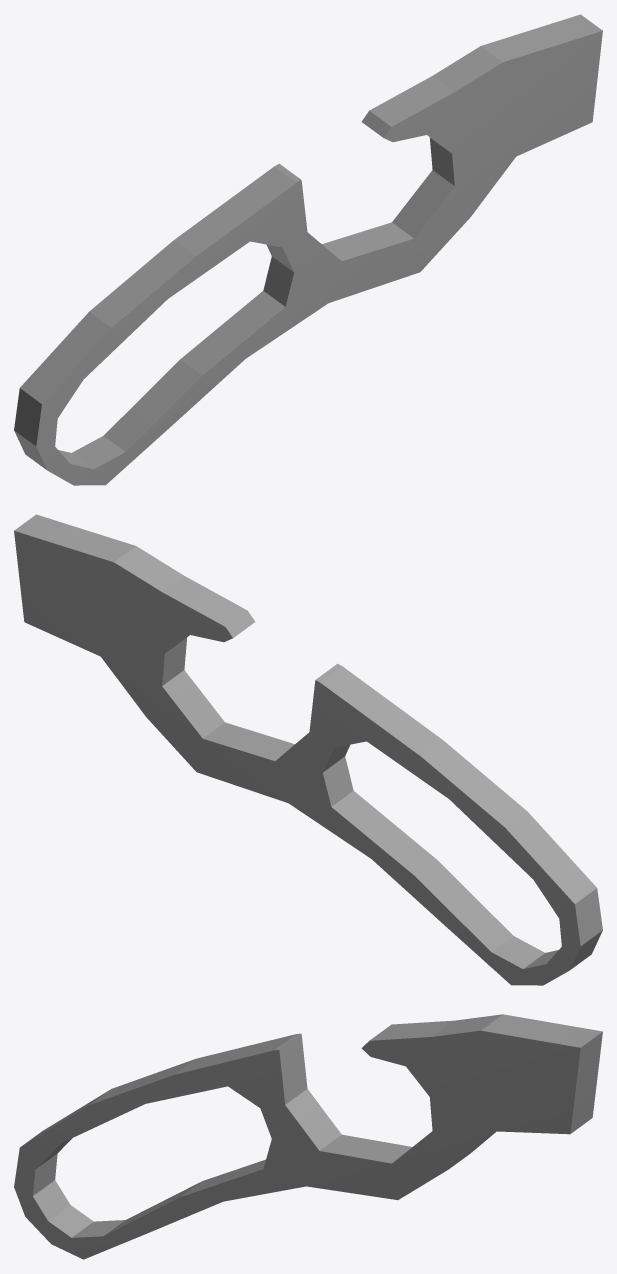
The model's file is SniperRifle5_03_2.fbx.
3 renders of one model, top to bottom at view 1: azimuth 30°, elevation 25°; view 2: azimuth 150°, elevation 25°; view 3: azimuth 330°, elevation 25°, orthographic.
Parts seen in each view (by area): view 1: SniperRifle5_03_2; view 2: SniperRifle5_03_2; view 3: SniperRifle5_03_2.
Boxes of the visible parts, x1,y1,x2,y2 form: SniperRifle5_03_2: [14, 14, 602, 485]; SniperRifle5_03_2: [14, 514, 602, 985]; SniperRifle5_03_2: [14, 1014, 602, 1259].
Size of the model in its own units: 0.175 by 0.0983 by 0.0119.
